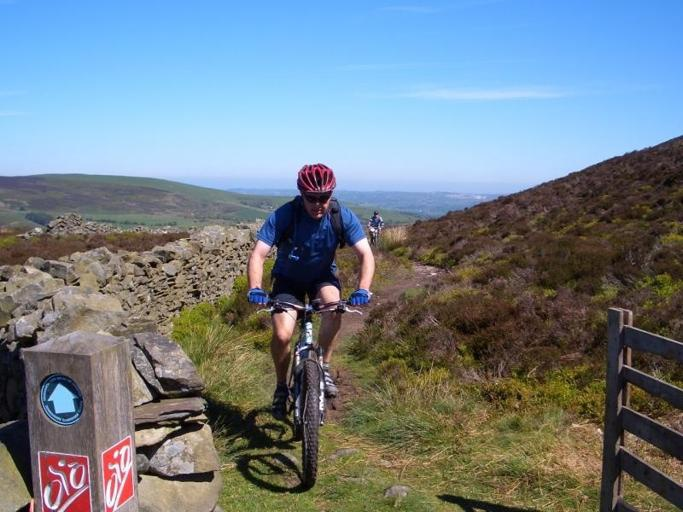non-vehicle: (252, 294, 366, 489), (368, 225, 384, 246)
